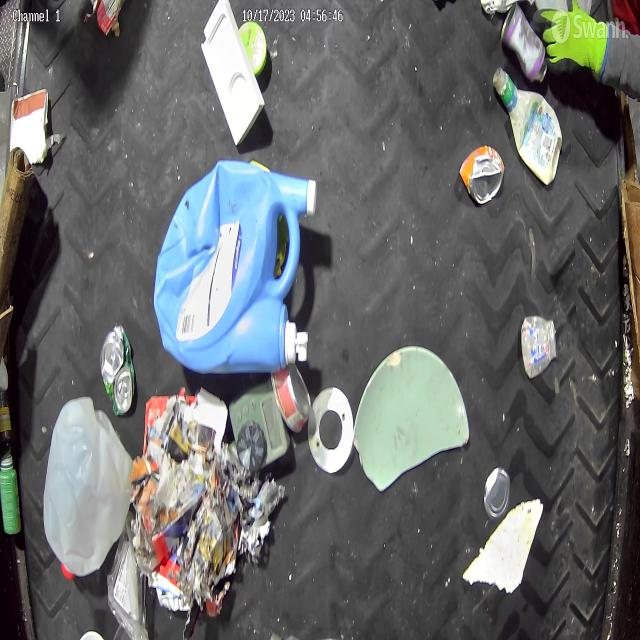can: (500, 6, 548, 88), (100, 325, 137, 419), (460, 145, 506, 205), (275, 366, 312, 436), (483, 466, 511, 520)
milk_jug: (43, 392, 132, 581)
non_white_jug: (154, 159, 318, 368)
